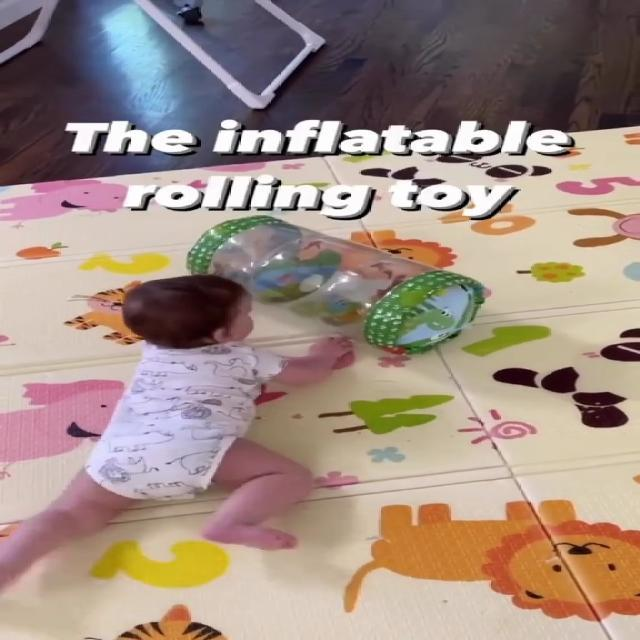baby: (0, 272, 356, 596)
